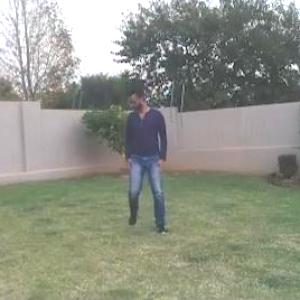follow: (125, 81, 167, 221)
